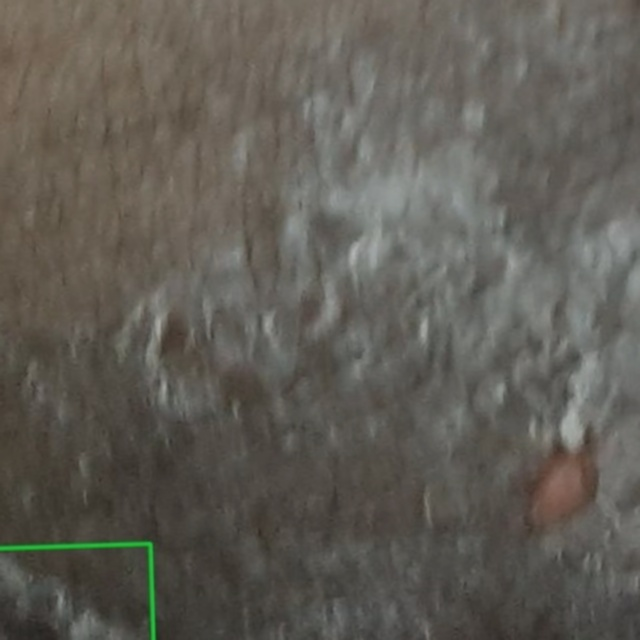Eczema: (0, 543, 153, 639)
